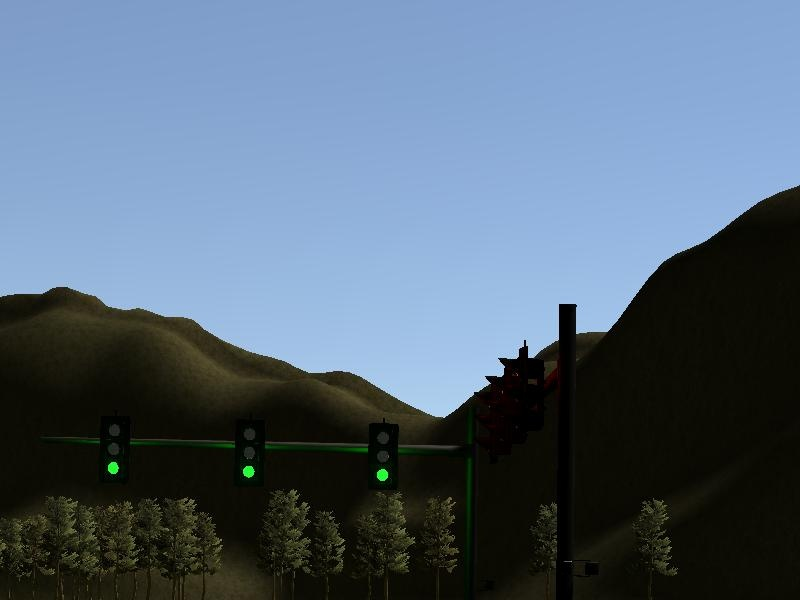Green: (97, 413, 132, 484), (234, 417, 268, 490), (367, 422, 400, 492)
